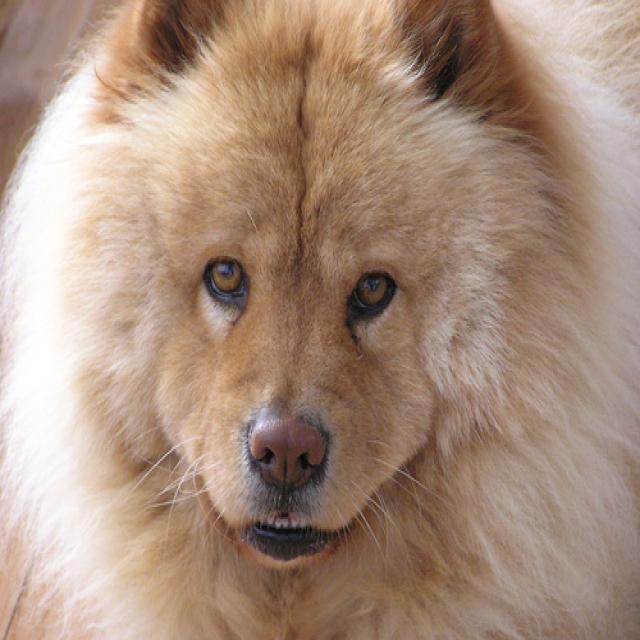dog: (1, 1, 639, 639)
